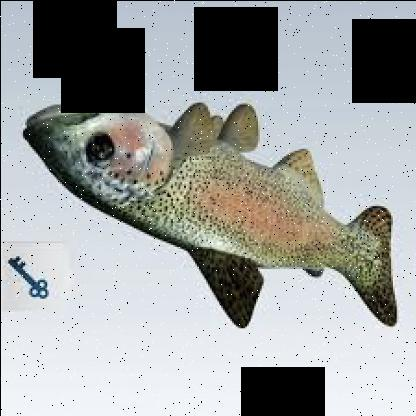fish: (25, 96, 401, 330)
